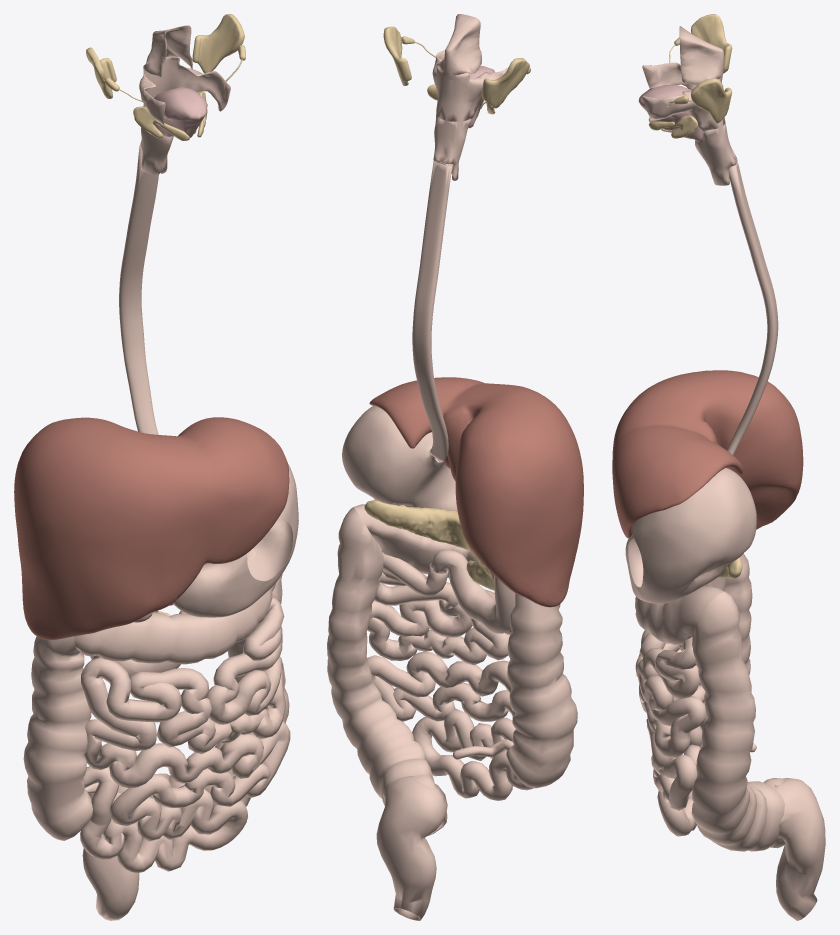
The model's file is digestive.glb.
3 views of the same model, side by side, from view 1: azimuth 30°, elevation 25°; view 2: azimuth 150°, elevation 25°; view 3: azimuth 270°, elevation 25° (orthographic). The views are drawn at different scales.
Parts seen in each view (by area): view 1: liver, small-intestine, large-intestine, stomach, esophagus, pharynx, salivary-glands, tongue; view 2: large-intestine, liver, small-intestine, stomach, esophagus, pharynx, pancreas, salivary-glands; view 3: large-intestine, liver, stomach, small-intestine, pharynx, esophagus, salivary-glands, tongue.
Part boxes in pixels (<box>): liver: <box>14,417,289,639</box>; small-intestine: <box>80,597,290,872</box>; large-intestine: <box>23,549,289,920</box>; stomach: <box>173,464,298,617</box>; esophagus: <box>119,146,158,434</box>; pharynx: <box>139,25,230,175</box>; salivary-glands: <box>86,14,245,140</box>; tongue: <box>152,87,207,137</box>; large-intestine: <box>327,504,577,920</box>; liver: <box>369,377,583,607</box>; small-intestine: <box>367,549,533,800</box>; stomach: <box>342,405,457,511</box>; esophagus: <box>412,160,452,462</box>; pharynx: <box>432,14,507,180</box>; pancreas: <box>364,500,494,590</box>; salivary-glands: <box>383,26,530,114</box>; large-intestine: <box>635,553,825,920</box>; liver: <box>612,370,803,538</box>; stomach: <box>625,468,756,603</box>; small-intestine: <box>635,577,726,836</box>; pharynx: <box>642,26,736,185</box>; esophagus: <box>727,157,778,455</box>; salivary-glands: <box>648,14,732,138</box>; tongue: <box>638,84,705,141</box>.
Size of the model in its own units: 0.229 by 0.7874 by 0.1711.
